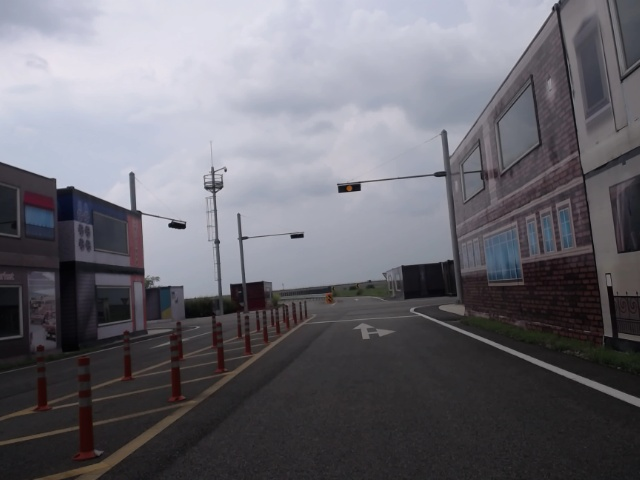orange_3: (338, 181, 361, 193)
